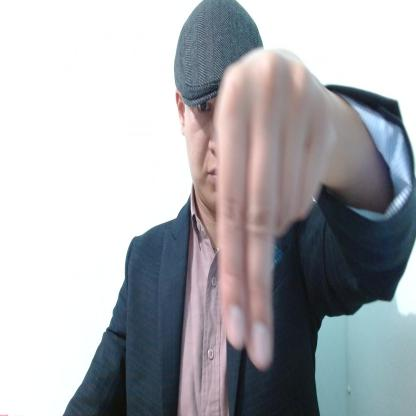N: (216, 49, 336, 373)
